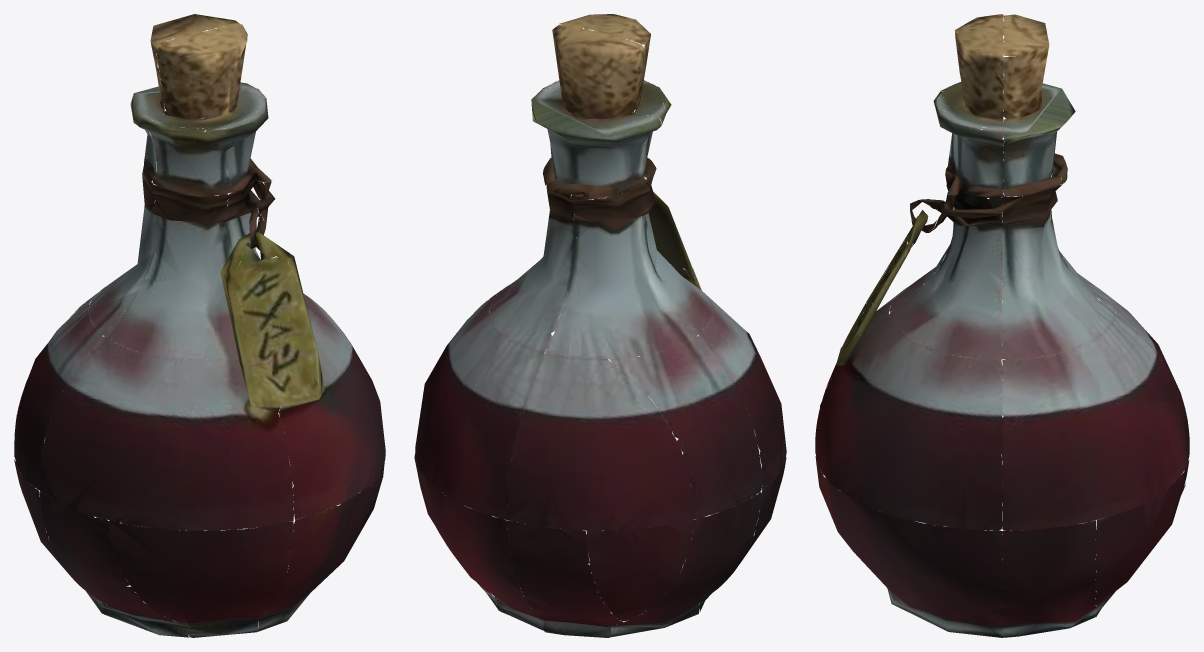
The model's file is w_sera_flask.glb.
3 views of the same model, side by side, from view 1: azimuth 30°, elevation 25°; view 2: azimuth 150°, elevation 25°; view 3: azimuth 270°, elevation 25° (orthographic).
Parts seen in each view (by area): view 1: geometry_0; view 2: geometry_0; view 3: geometry_0.
Part boxes in pixels (x1,y1,x2,y2): geometry_0: (14, 14, 385, 637); geometry_0: (414, 14, 786, 637); geometry_0: (815, 14, 1189, 637).
Bounding box in the file's own units: 0.1322 × 0.22 × 0.1335.
1 material, 1 textured.
